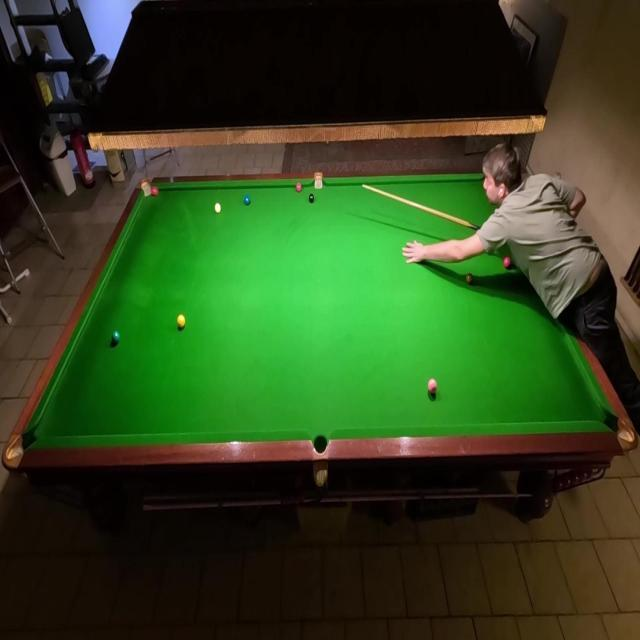Ball: (428, 378, 438, 394), (502, 256, 512, 270), (111, 330, 121, 344), (177, 314, 186, 329), (466, 272, 474, 286), (244, 195, 252, 207), (214, 203, 222, 214), (150, 186, 158, 196), (296, 182, 302, 192), (308, 194, 314, 204)
